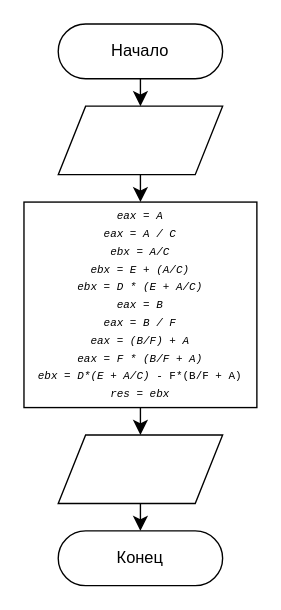
The diagram is 281 pixels wide and 610 high, and some of its shapes have lost their labels. Each missing label, with the centre of its shape:
Ввод значений A, B, C, D, E, F: (140,140)
Вывод значений A, B, C, D, E, F, res, res1: (140,468)
